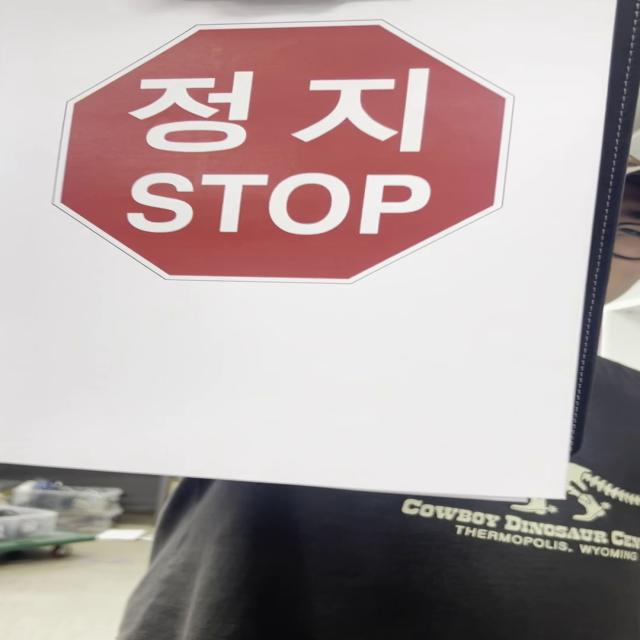stop: (58, 23, 518, 289)
